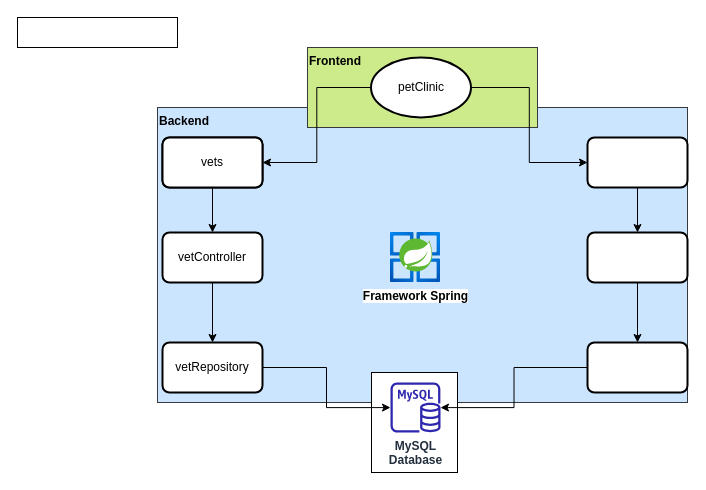
This 706x490 diagram has some shape labels left out. The centre of each missing label's shape, as x and y in pixels:
petController: the point at 637,257
petRepository: the point at 637,367
pets: the point at 637,162
Spring Pet Clinic architecture: the point at 97,32
